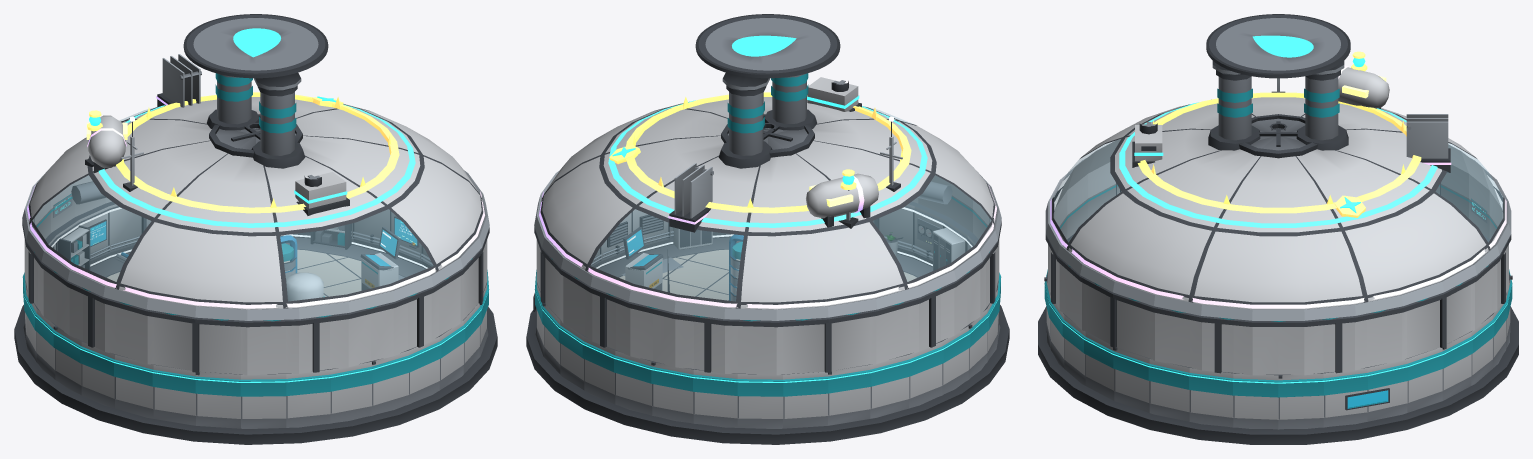
The model's file is oxygen_plant_m.glb.
The picture shows the model from 3 angles, left to right: view 1: azimuth 30°, elevation 25°; view 2: azimuth 150°, elevation 25°; view 3: azimuth 270°, elevation 25°; orthographic projection.
Visible parts, largest first — view 1: Roof, Base, L4, L3, L5, Interior, Wall_21, Wall_20, Wall_22, Upper_20, Upper_21, Wall_19 (+38 smaller); view 2: Roof, Base, L4, L3, L5, Wall_10, Interior, Wall_11, Wall_09, Upper_11, Upper_10, Wall_12 (+38 smaller); view 3: Roof, Base, L4, L5, L3, Wall_00, Wall_31, Upper_00, Upper_31, Wall_30, Upper_01, Upper_30 (+35 smaller).
Part boxes in pixels (x1,y1,x2,y2): Roof: (22,14,489,322); Base: (14,236,497,444); L4: (27,54,484,308); L3: (98,104,415,227); L5: (85,92,399,213); Interior: (114,227,404,301); Wall_21: (240,373,286,428); Wall_20: (195,371,240,428); Wall_22: (286,369,330,427); Upper_20: (195,319,240,374); Upper_21: (240,321,286,375); Wall_19: (152,364,195,425); Roof: (534,14,1001,322); Base: (526,237,1009,444); L4: (539,163,996,308); L3: (608,77,927,227); L5: (609,92,911,228); Wall_10: (737,373,783,428); Interior: (622,227,743,301); Wall_11: (783,371,828,428); Wall_09: (693,369,737,427); Upper_11: (783,319,828,374); Upper_10: (737,321,783,375); Wall_12: (828,364,871,425); Roof: (1045,14,1511,322); Base: (1038,306,1518,444); L4: (1050,65,1506,308); L5: (1137,51,1421,217); L3: (1119,102,1437,227); Wall_00: (1278,373,1323,429); Wall_31: (1233,373,1278,429); Upper_00: (1278,320,1323,375); Upper_31: (1233,320,1278,375); Wall_30: (1189,367,1233,427); Upper_01: (1323,315,1367,373); Upper_30: (1189,315,1233,373).
Size of the model in its own units: 10.53 by 7.23 by 10.53.
